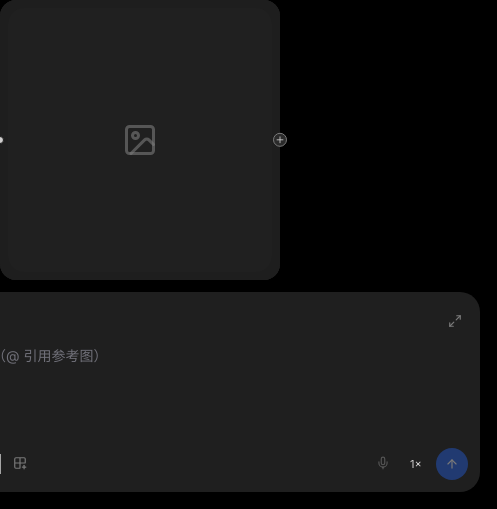
Scenario: GenImageNode 提示词预设 › 选中预设：写入 settings.promptPreset 并渲染 chip
Click the button named "预设" at (20, 464), box [7,449,33,479]
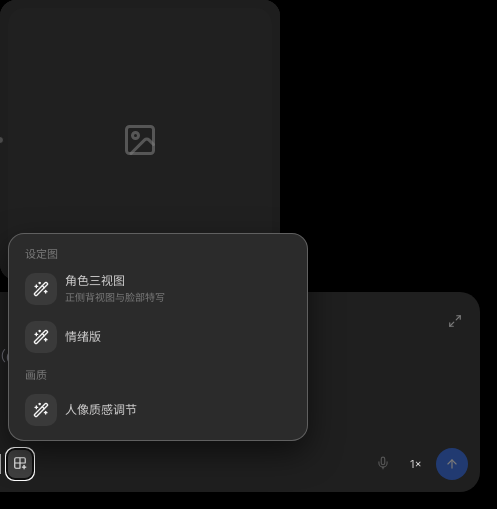
Now the text "设定图" is shown, box [25,247,58,261]
Now the text "正侧背视图与脸部特写" is shown, box [65,291,165,303]
Click the text "角色三视图" at (95, 280), box [65,273,125,288]
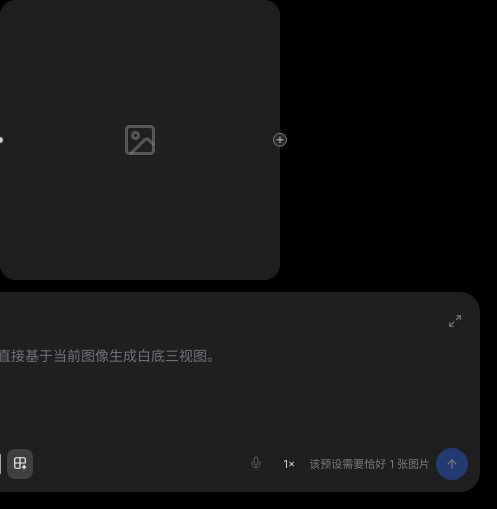
Now the button "情绪版" is gone
